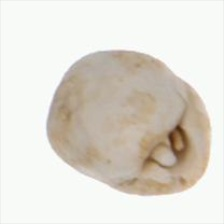L3: (140, 124, 190, 178)
L4: (46, 49, 211, 196)
